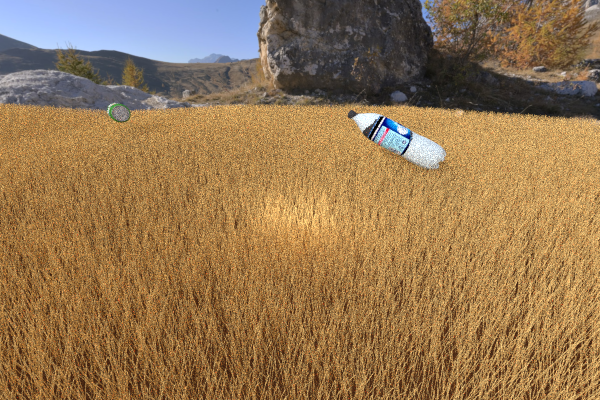Plastic Bottle: (347, 109, 446, 170), (93, 116, 178, 164), (106, 103, 130, 122)
